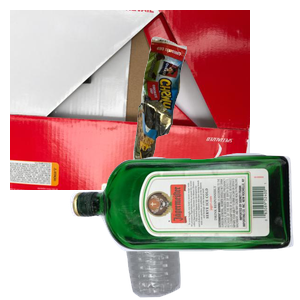cardboard: (10, 10, 250, 190)
glass: (67, 150, 300, 300)
plastic: (115, 176, 288, 300)
trash: (130, 34, 300, 203)
